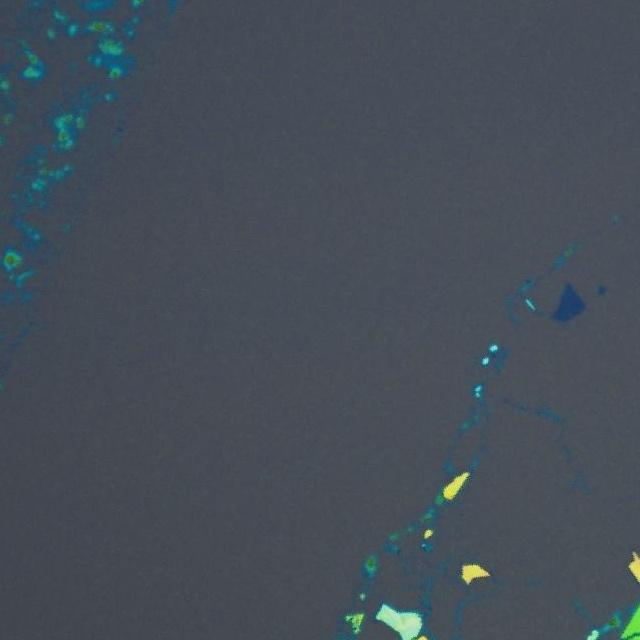monolayer-eWW4: (552, 280, 588, 325), (597, 284, 608, 296)
